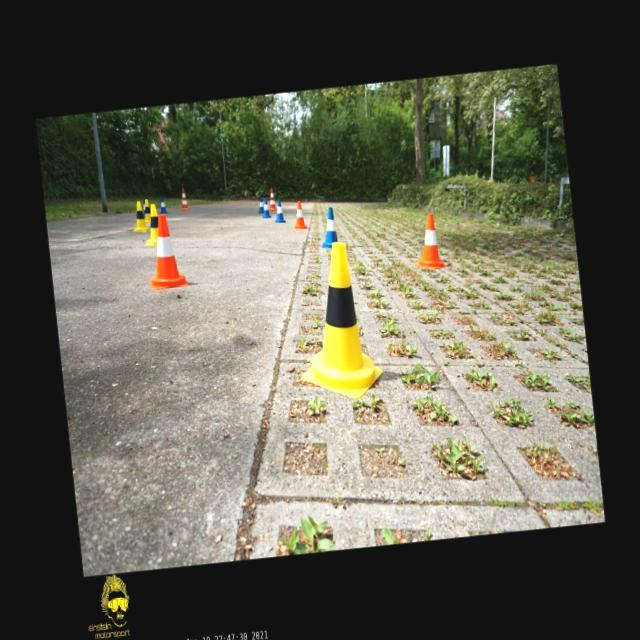blue_cone: (318, 206, 338, 248), (272, 198, 286, 222), (260, 196, 271, 218), (158, 198, 168, 214), (256, 197, 264, 213), (142, 200, 146, 217)
large_orange_cone: (178, 187, 188, 210), (267, 187, 276, 210)
orange_cone: (144, 212, 188, 288), (413, 212, 446, 270), (292, 200, 306, 228)
yellow_cone: (288, 239, 384, 403), (142, 203, 160, 245), (130, 200, 148, 232), (143, 198, 151, 222)
